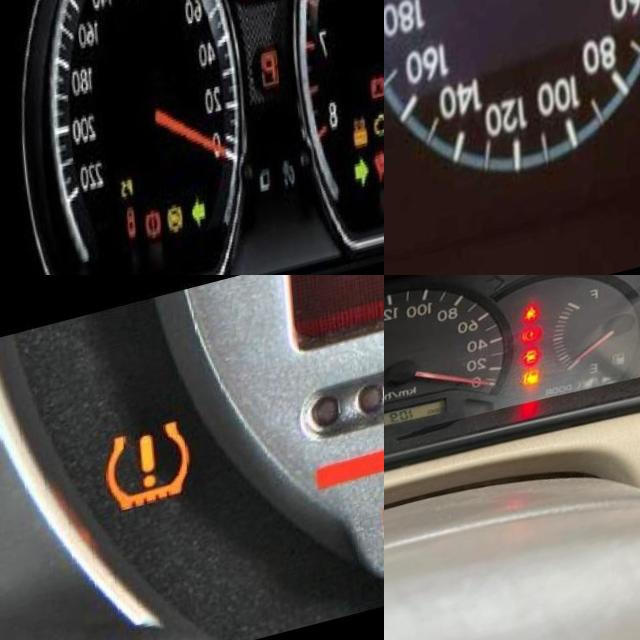Seat Belt: (519, 328, 535, 346)
